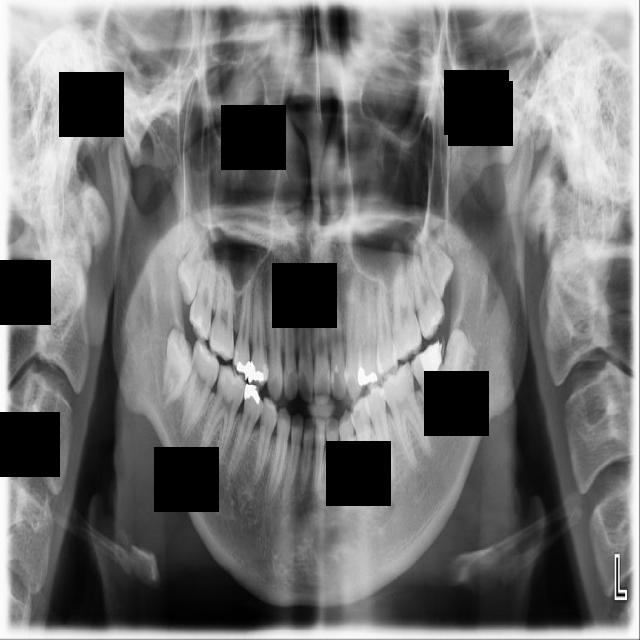3M ESPE Implant: (169, 225, 211, 308)
52: (400, 333, 457, 389), (246, 348, 271, 393), (357, 345, 381, 391), (230, 339, 253, 382), (242, 383, 265, 424), (330, 357, 347, 401)
73: (416, 366, 461, 437), (591, 578, 599, 588)
BioHorizons Implant: (403, 234, 451, 341)
BioLife Implant: (411, 225, 464, 302)
Biomet 3i Implant: (439, 325, 484, 394)
Blue Sky Bio Implant: (405, 336, 460, 438)
Caries: (187, 238, 219, 342)
Implant: (177, 336, 225, 443)
Keystone Dental Implant: (157, 328, 197, 411)
